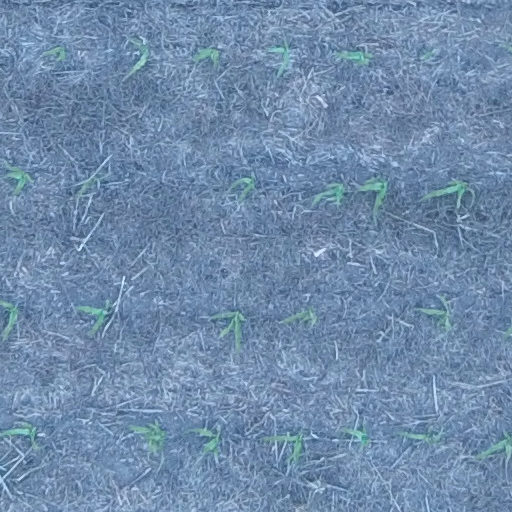planta: (213, 310, 247, 351), (265, 434, 303, 463), (76, 302, 110, 333), (423, 294, 451, 329), (5, 163, 33, 195), (189, 428, 222, 455), (424, 179, 469, 198), (360, 180, 389, 209), (128, 425, 157, 452), (128, 38, 150, 73), (312, 181, 345, 204), (270, 41, 289, 75), (341, 426, 369, 446), (399, 431, 442, 444), (232, 177, 254, 201), (335, 52, 374, 65), (285, 308, 314, 324), (148, 423, 165, 448), (194, 48, 218, 64), (43, 46, 66, 61)
